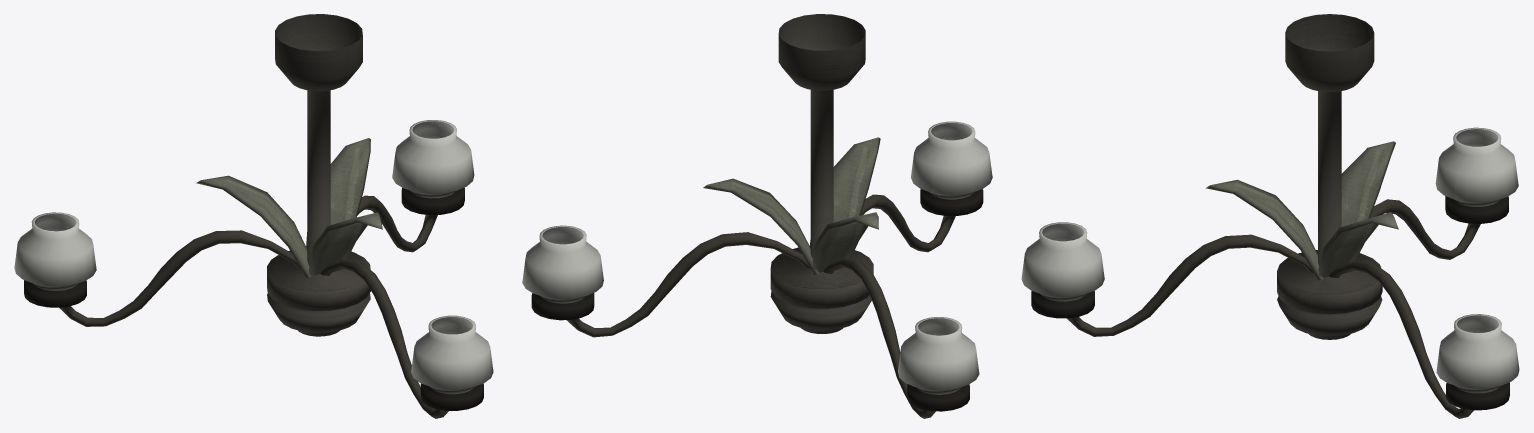
The model's file is FPH_CeilingLamp.fbx.
3 views of the same model, side by side, from view 1: azimuth 30°, elevation 25°; view 2: azimuth 150°, elevation 25°; view 3: azimuth 270°, elevation 25° (orthographic).
Parts seen in each view (by area): view 1: FPH_CeilingLamp; view 2: FPH_CeilingLamp; view 3: FPH_CeilingLamp.
Part boxes in pixels (left/top/right/bottom): FPH_CeilingLamp: left=14, top=14, right=493, bottom=418; FPH_CeilingLamp: left=522, top=14, right=992, bottom=418; FPH_CeilingLamp: left=1021, top=14, right=1519, bottom=418.
Size of the model in its own units: 4.28 by 2.74 by 4.07.
